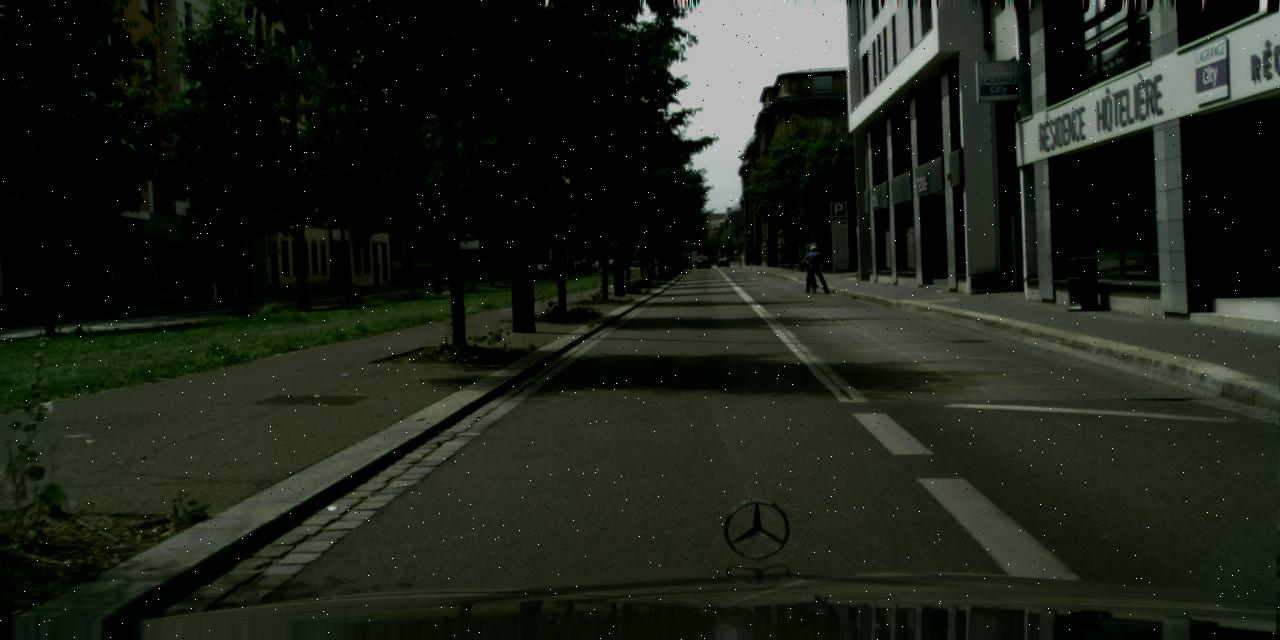ped: (806, 244, 825, 294), (549, 258, 555, 274)
